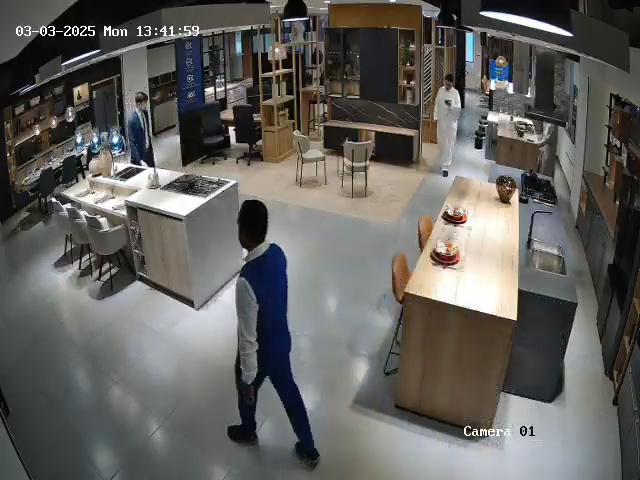employee: (226, 199, 321, 469), (128, 92, 155, 168)
male: (433, 74, 461, 170)
